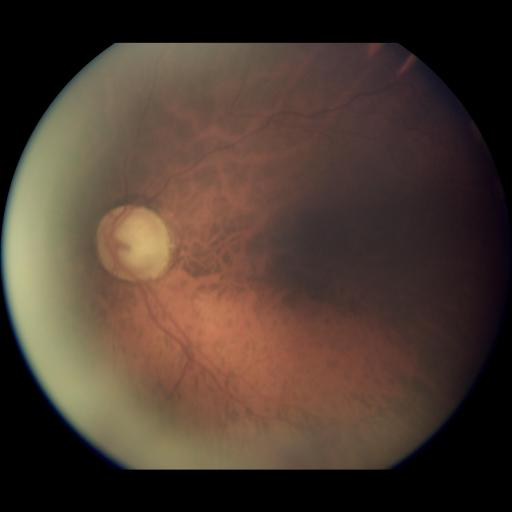Optic Disc: (96, 205, 171, 282)
